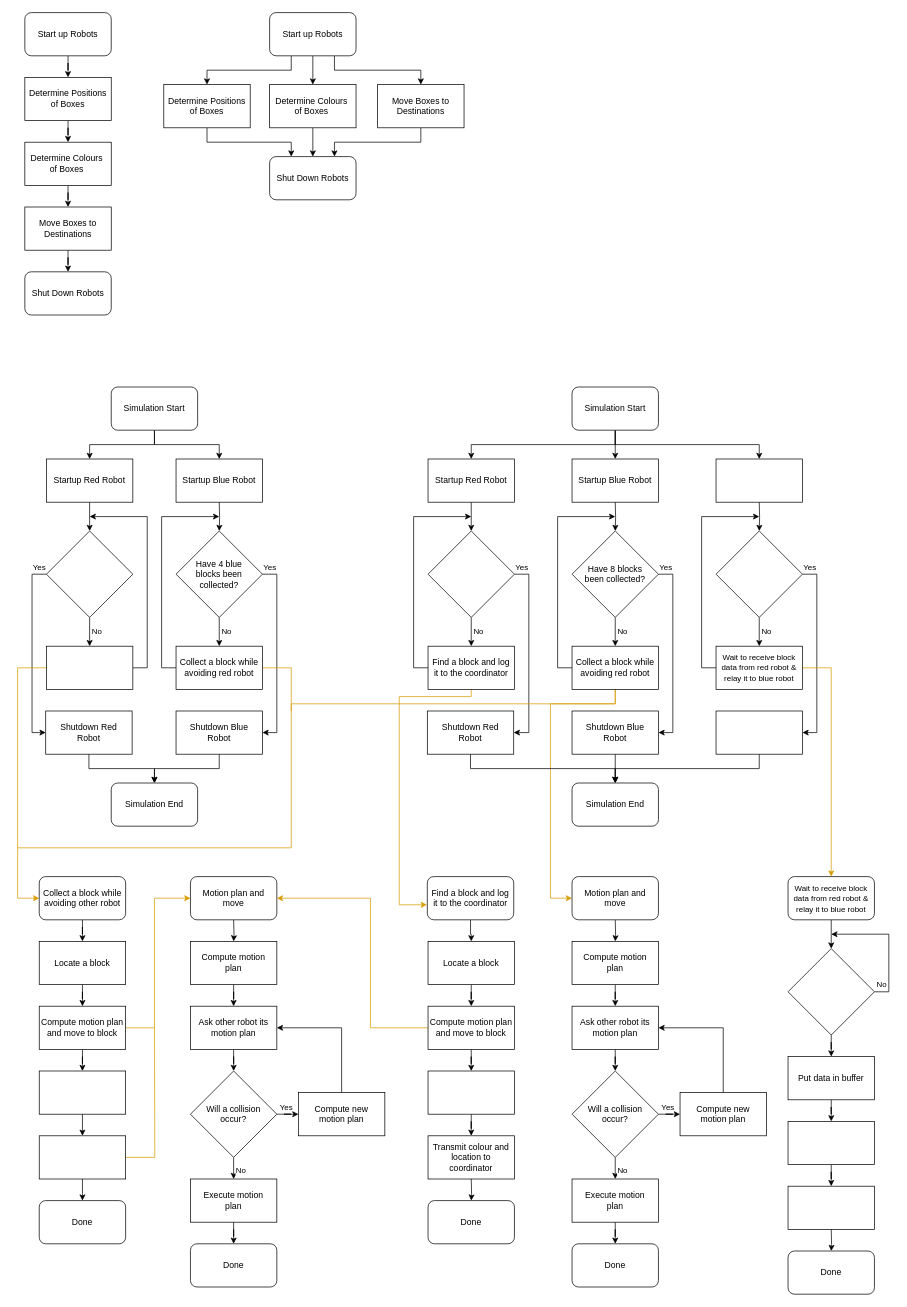
Image size: 907x1307. Some labels were removed from this diagram. Each missing label, with the box of its shape:
Collect a block while avoiding blue robot: (46, 645, 133, 689)
Compute motion plan and move to corner: (39, 1135, 126, 1179)
Detect colour and location of block: (427, 1070, 514, 1114)
Grab block: (39, 1070, 126, 1114)
Have 4 red blocks been collected?: (46, 530, 133, 617)
Have 8 blocks been found and logged?: (427, 530, 514, 617)
Have 8 blocks been logged?: (715, 530, 802, 617)
Is data being recieved?: (787, 948, 874, 1035)
Retransmit data to blue robot: (787, 1185, 874, 1229)
Shutdown Controller: (715, 710, 802, 754)
Startup Coordinator: (715, 458, 802, 502)
Translate received data into usable form: (787, 1121, 874, 1165)
